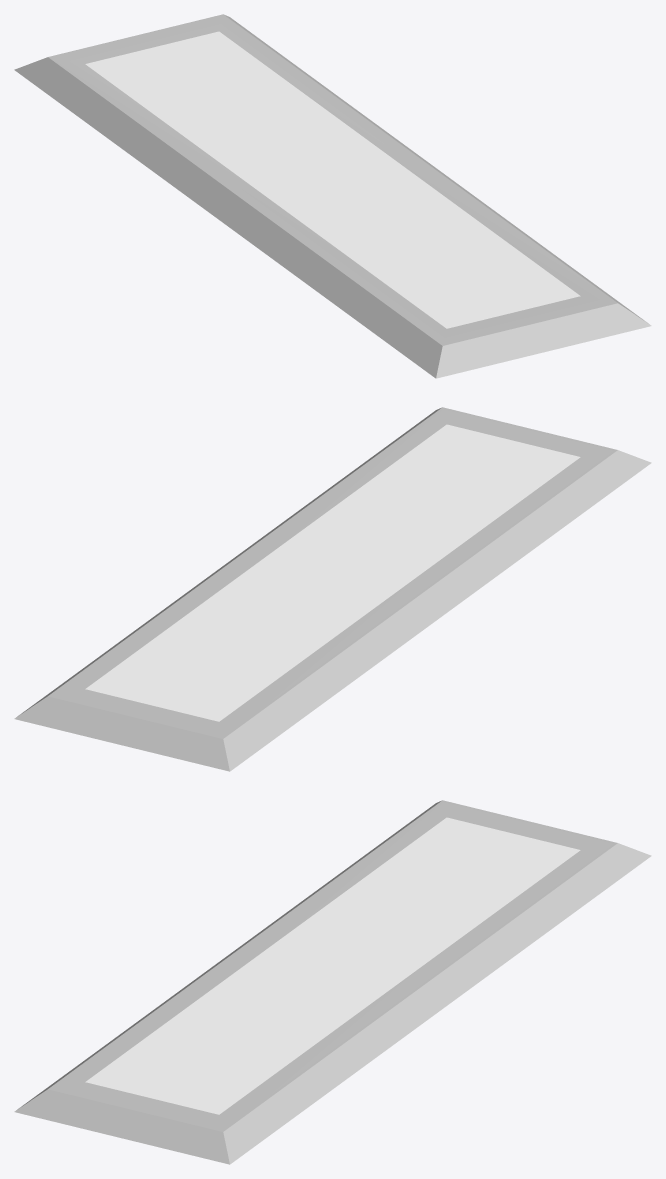
Rendered from DeathBar.fbx.
3 renders of one model, top to bottom at view 1: azimuth 30°, elevation 25°; view 2: azimuth 150°, elevation 25°; view 3: azimuth 330°, elevation 25°, orthographic.
Visible parts, largest first — view 1: Overlay, Back; view 2: Overlay, Back; view 3: Overlay, Back.
Boxes of the visible parts, x1,y1,x2,y2 form: Overlay: (85,31,580,328); Back: (14,14,651,378); Overlay: (85,424,580,721); Back: (14,407,651,771); Overlay: (85,817,580,1114); Back: (14,800,651,1164).
Bounding box in the file's own units: 3 × 0.4023 × 10.14.
